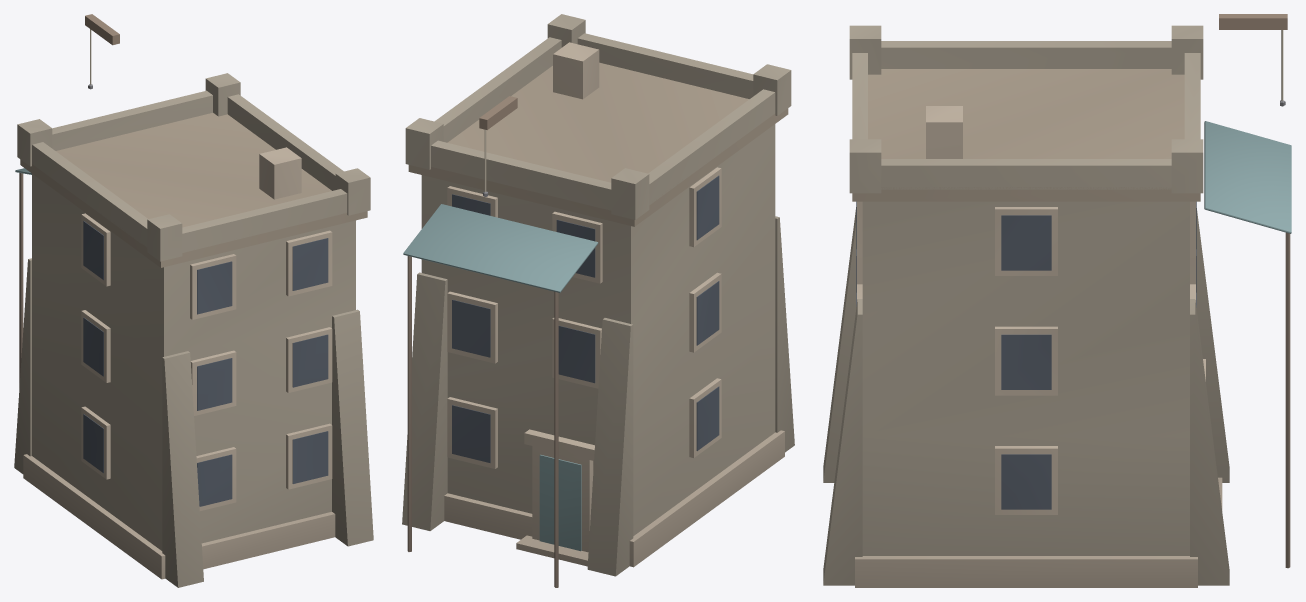
The model's file is townhouse_sun.gltf.
3 views of the same model, side by side, from view 1: azimuth 30°, elevation 25°; view 2: azimuth 150°, elevation 25°; view 3: azimuth 270°, elevation 25° (orthographic). The views are drawn at different scales.
Visible parts, largest first — view 1: Body; view 2: Body; view 3: Body.
Boxes of the visible parts, x1,y1,x2,y2 form: Body: [14, 14, 373, 587]; Body: [402, 14, 794, 587]; Body: [823, 14, 1291, 587].
Bounding box in the file's own units: 5.7 × 10.67 × 8.88.
